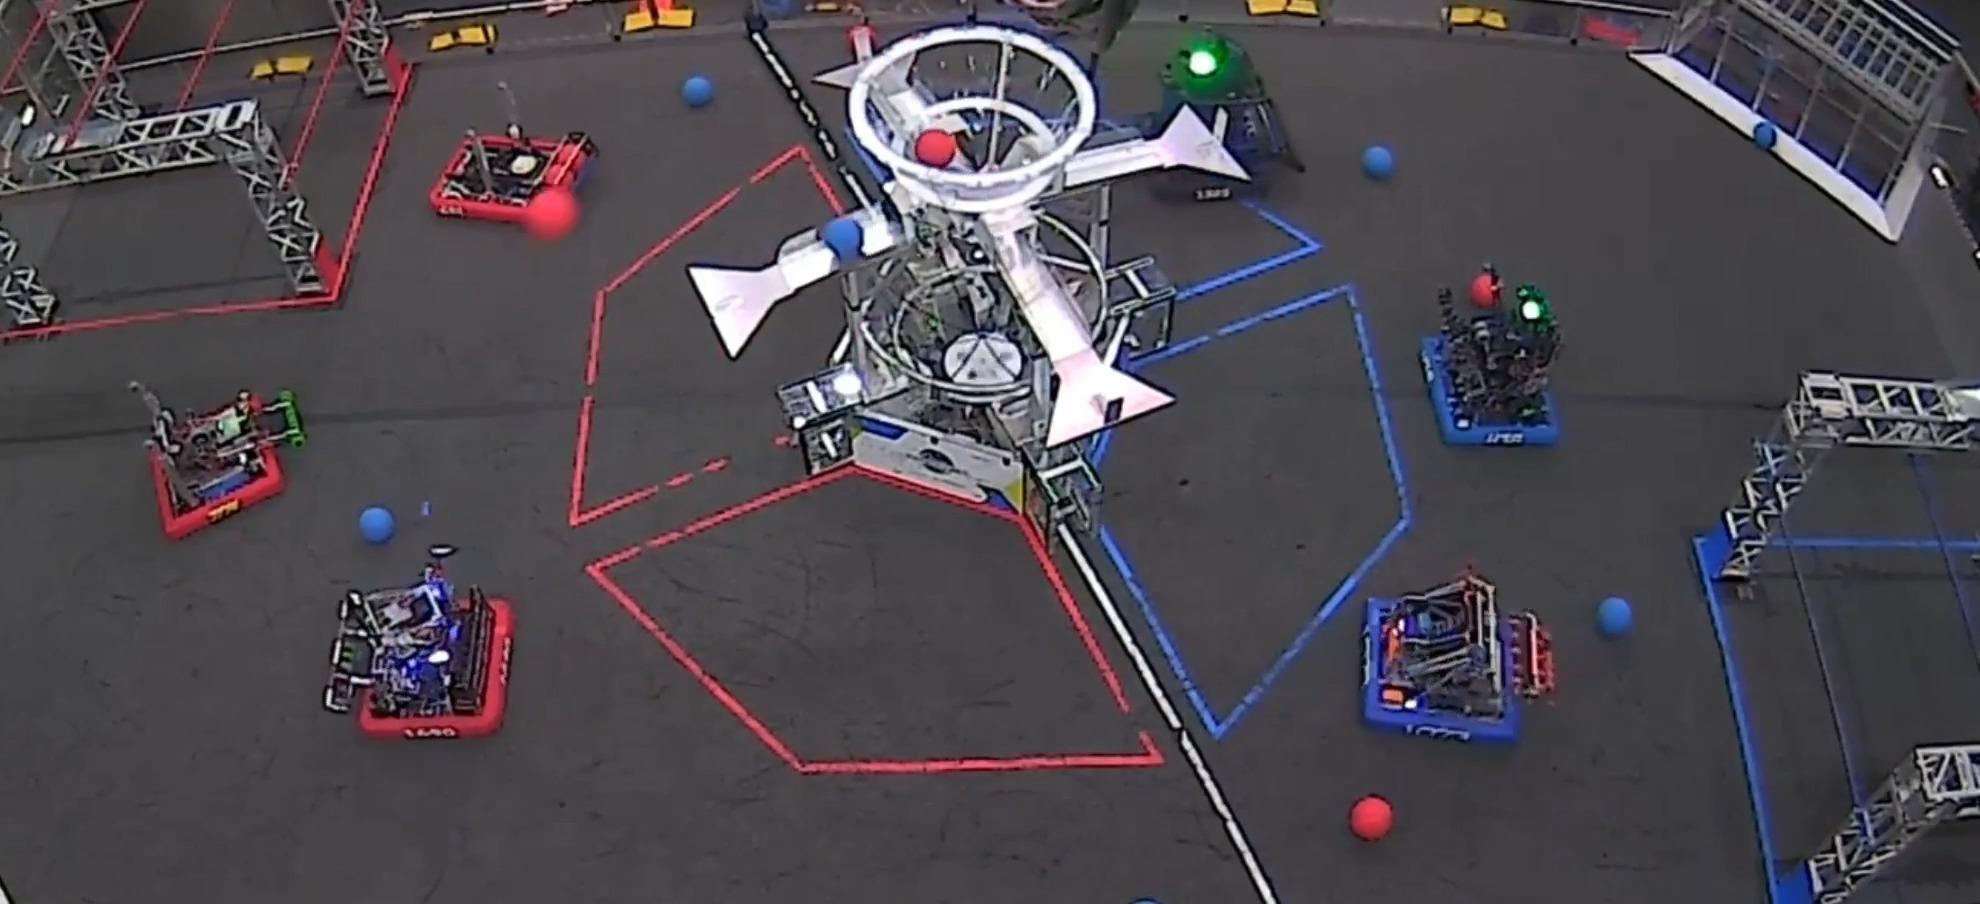Robots: (323, 545, 511, 737), (1364, 569, 1553, 741), (129, 383, 306, 539), (1154, 30, 1304, 201), (429, 83, 597, 221), (1431, 264, 1560, 442)
